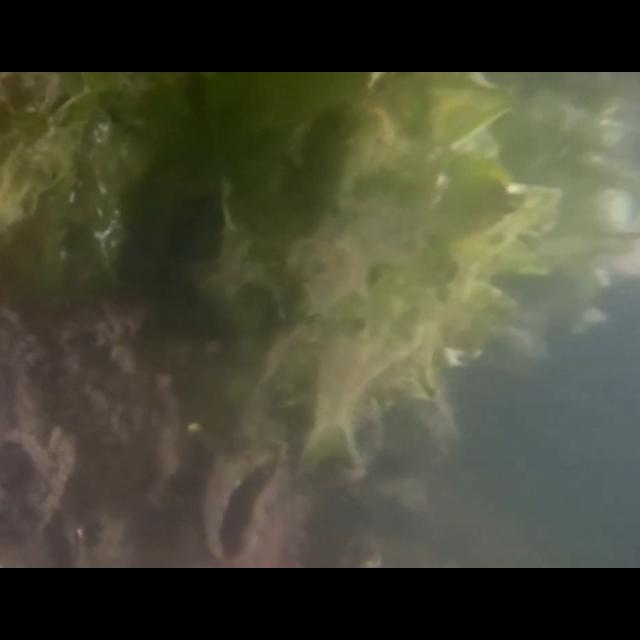Oyster-Open: (200, 442, 288, 566)
